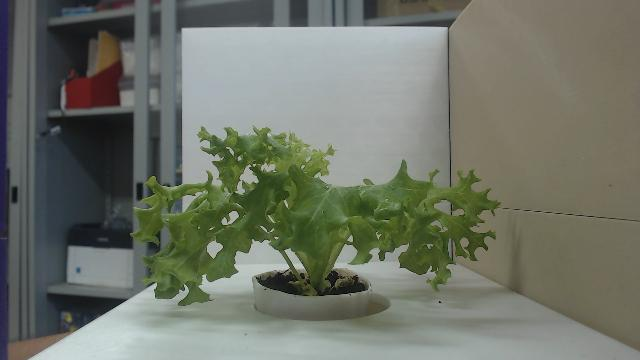Harvest Stage: (131, 124, 503, 308)
